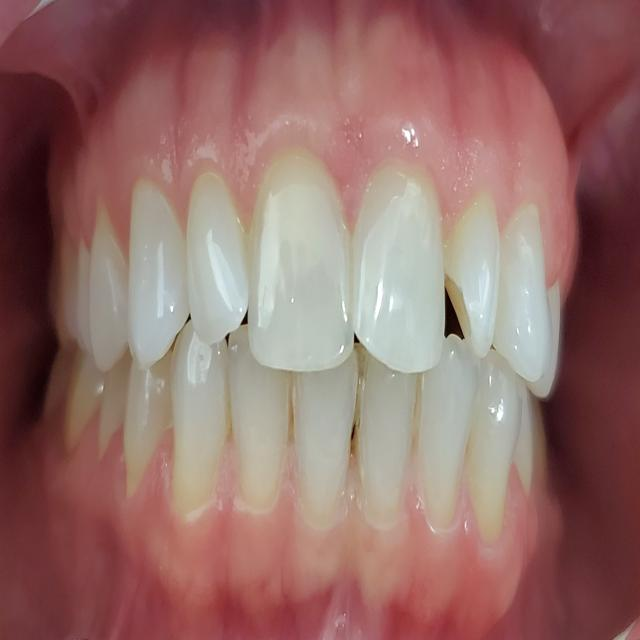tooth: (358, 140, 455, 388), (254, 170, 352, 383), (174, 166, 252, 344), (117, 176, 185, 360), (363, 353, 419, 534), (234, 350, 291, 518), (434, 350, 477, 553), (482, 360, 525, 550), (177, 342, 224, 503), (454, 188, 495, 351), (303, 372, 352, 508), (87, 200, 128, 362), (508, 219, 544, 374), (133, 361, 170, 458)
